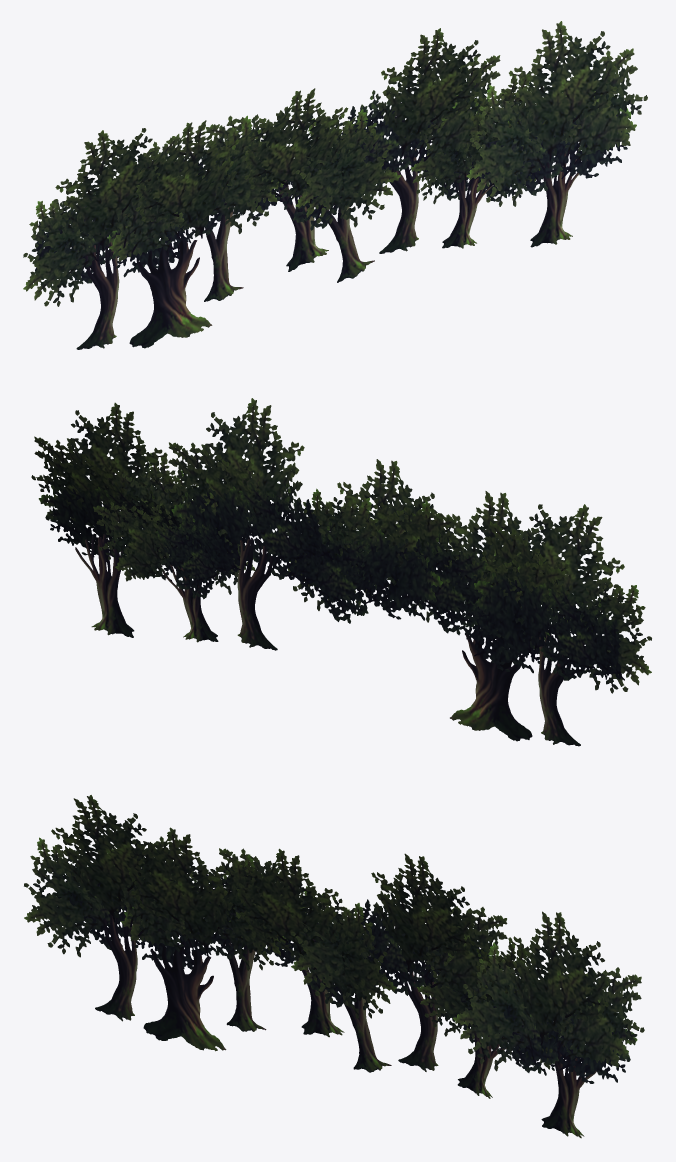
The model's file is Dark Forest Trees BG.FBX.
3 renders of one model, top to bottom at view 1: azimuth 30°, elevation 25°; view 2: azimuth 150°, elevation 25°; view 3: azimuth 330°, elevation 25°, orthographic.
Visible parts, largest first — view 1: Trees BG; view 2: Trees BG; view 3: Trees BG.
Part boxes in pixels (x1,y1,x2,y2): Trees BG: (23, 21, 647, 349); Trees BG: (31, 398, 651, 746); Trees BG: (24, 795, 644, 1138).
Bounding box in the file's own units: 2696 × 170 × 1103.
